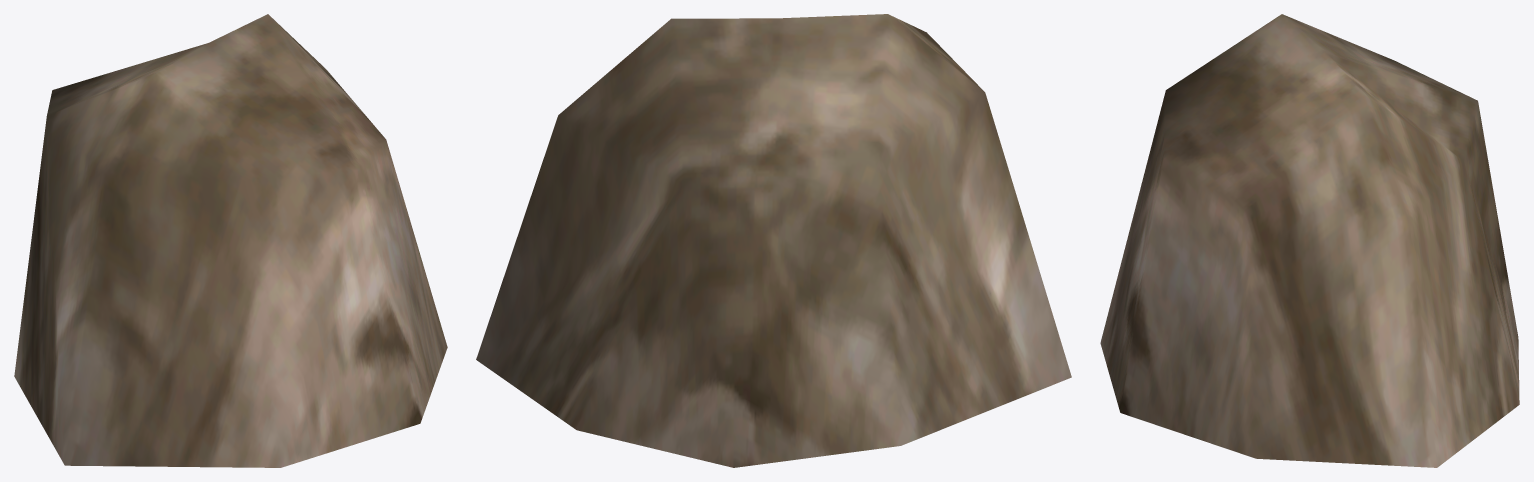
The model's file is OVERHILL_A_01_ROCK57.fbx.
The picture shows the model from 3 angles, left to right: view 1: azimuth 30°, elevation 25°; view 2: azimuth 150°, elevation 25°; view 3: azimuth 270°, elevation 25°; orthographic projection. The views are drawn at different scales.
Visible parts, largest first — view 1: OVERHILL_A_01_ROCK57; view 2: OVERHILL_A_01_ROCK57; view 3: OVERHILL_A_01_ROCK57.
Part boxes in pixels (left/top/right/bottom): OVERHILL_A_01_ROCK57: left=14, top=14, right=447, bottom=467; OVERHILL_A_01_ROCK57: left=476, top=14, right=1071, bottom=467; OVERHILL_A_01_ROCK57: left=1100, top=14, right=1519, bottom=467.
Size of the model in its own units: 4145 by 3067 by 3690.
Materials: 1 (1 with a texture image).
